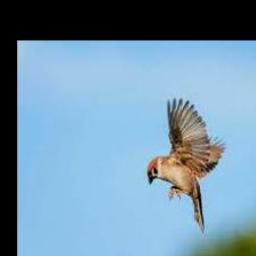Sparrow: (146, 98, 225, 232)
